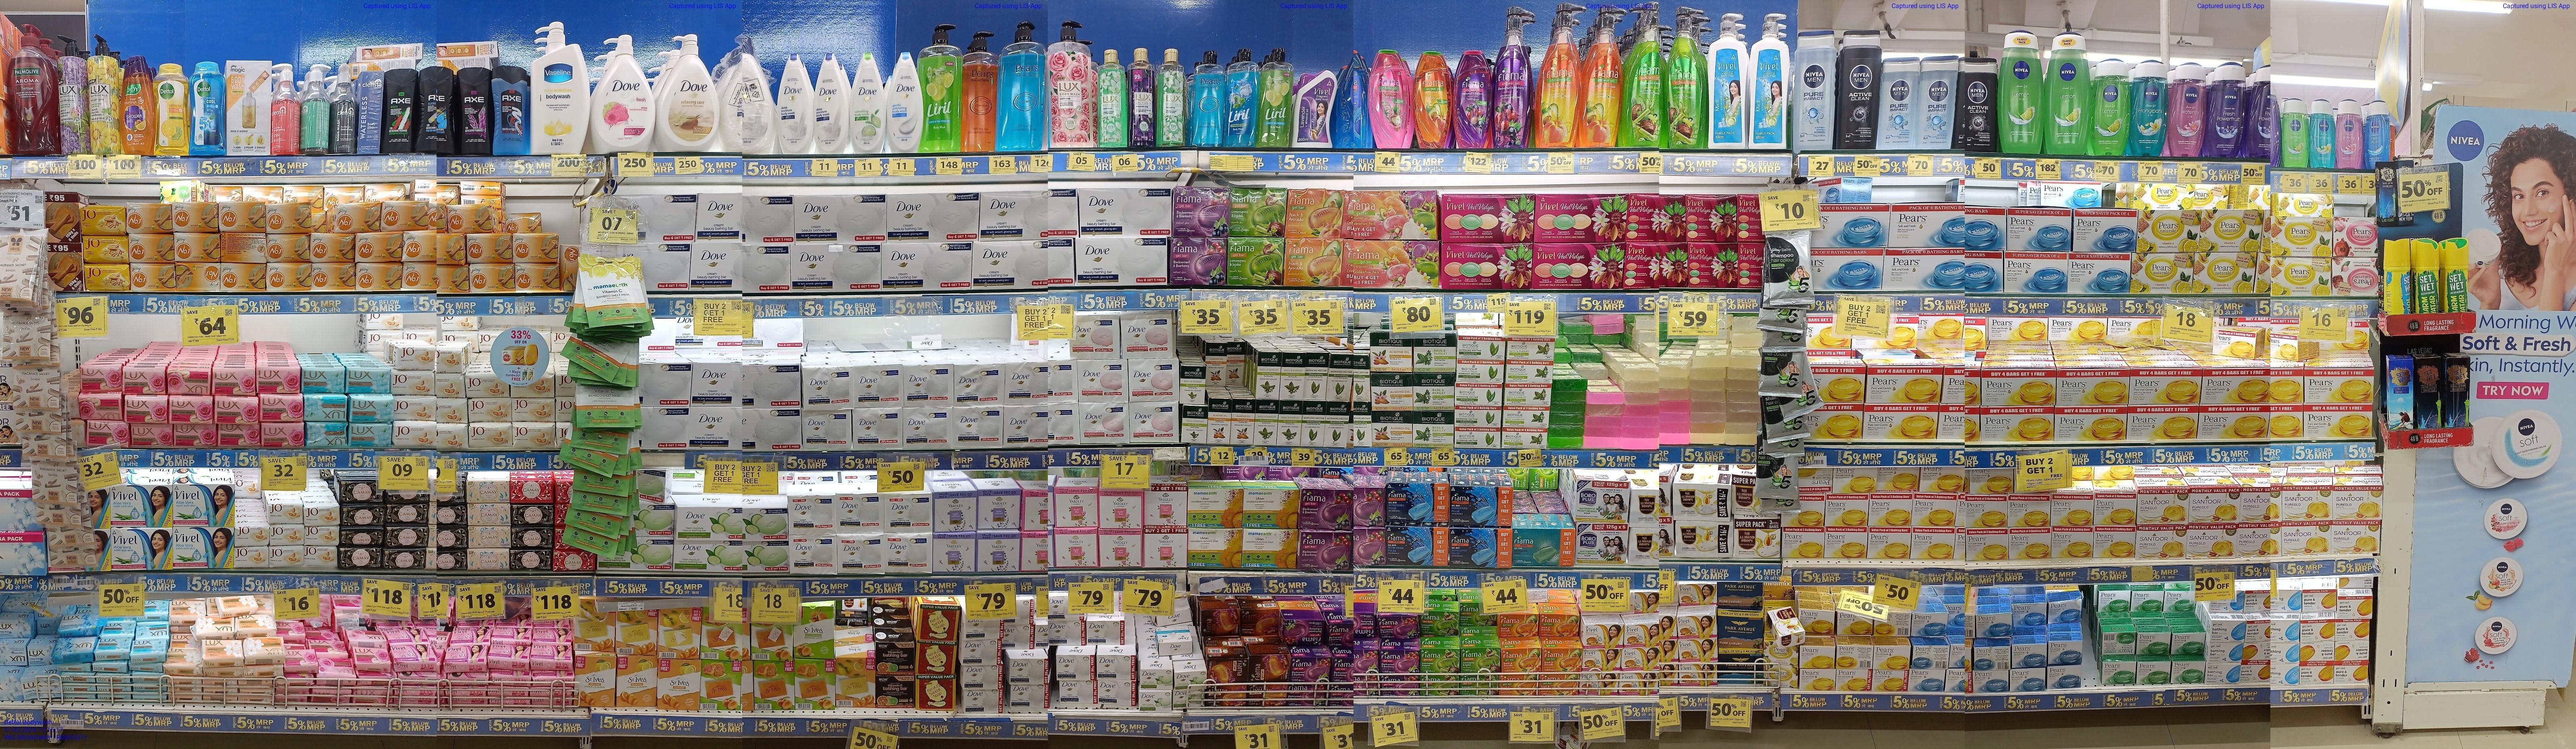Dettol_Bodywash_Cool: (189, 61, 225, 156)
Dettol_Bodywash_Refresh: (849, 51, 887, 153), (154, 62, 189, 156)
Dove_Deep_Moisture_Body_Wash_250ML: (777, 51, 813, 154), (813, 53, 849, 154)
Dove_Gentle_Exfoliating_Body_Wash_250ML: (887, 51, 923, 153)
Fiama_Shower_Gel_Patchouli_and_Macadamia_250ML: (1368, 49, 1410, 146)
Fiama_Shower_Gel_Peach_and_Avocado_250ML: (1413, 49, 1452, 149)
Joy_Shower_Gel_Mandarin_and_Lemongrass_250ML: (120, 54, 154, 156)
Liril_Cooling_Mint_Body_Wash_250ML: (1226, 48, 1260, 146)
Liril_Lime_and_Tea_Tree_Oil_Body_Wash_250ML: (1260, 44, 1295, 146)
Lux_Body_Wash_Skin_Detox_Freesia_Scent_and_Alove_Vera_245ML: (1097, 49, 1127, 146), (1157, 48, 1184, 146)
Nivea_Creme_Care_Body_Wash_250ML: (1127, 48, 1155, 148)
Nivea_Shower_Gel_Frangipani_and_Oil_250ML: (2131, 59, 2169, 158), (2310, 97, 2336, 168)
Nivea_Shower_Gel_Fresh_Powerfruit_250ML: (2206, 61, 2246, 156)
Nivea_Shower_Gel_Lemon_and_Oil_250ML: (2044, 28, 2093, 154), (1998, 28, 2045, 153), (2091, 57, 2131, 156), (2282, 97, 2310, 168)
Nivea_Shower_Gel_Waterlily_and_Oil_250ML: (2169, 61, 2208, 156), (2334, 97, 2362, 169)
Pears_Pure_Glycerin_and_Mint_Extracts_Body_Wash_250ML: (1189, 49, 1226, 146)
